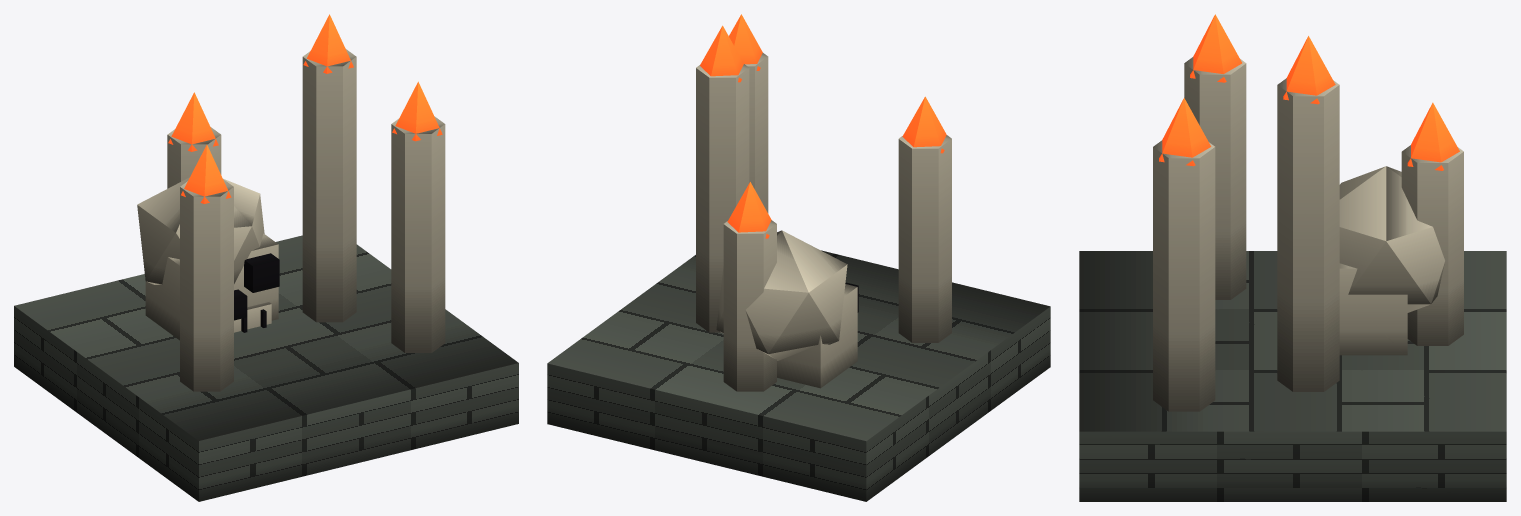
File: candle_shrine.glb
3 views of the same model, side by side, from view 1: azimuth 30°, elevation 25°; view 2: azimuth 150°, elevation 25°; view 3: azimuth 270°, elevation 25° (orthographic). The views are drawn at different scales.
Visible parts, largest first — view 1: candle_shrine; view 2: candle_shrine; view 3: candle_shrine.
Part boxes in pixels (x1,y1,x2,y2): candle_shrine: (14, 14, 518, 501); candle_shrine: (547, 14, 1050, 501); candle_shrine: (1079, 14, 1506, 501).
Bounding box in the file's own units: 0.55 × 0.59 × 0.55.
Materials: 1 (1 with a texture image).
